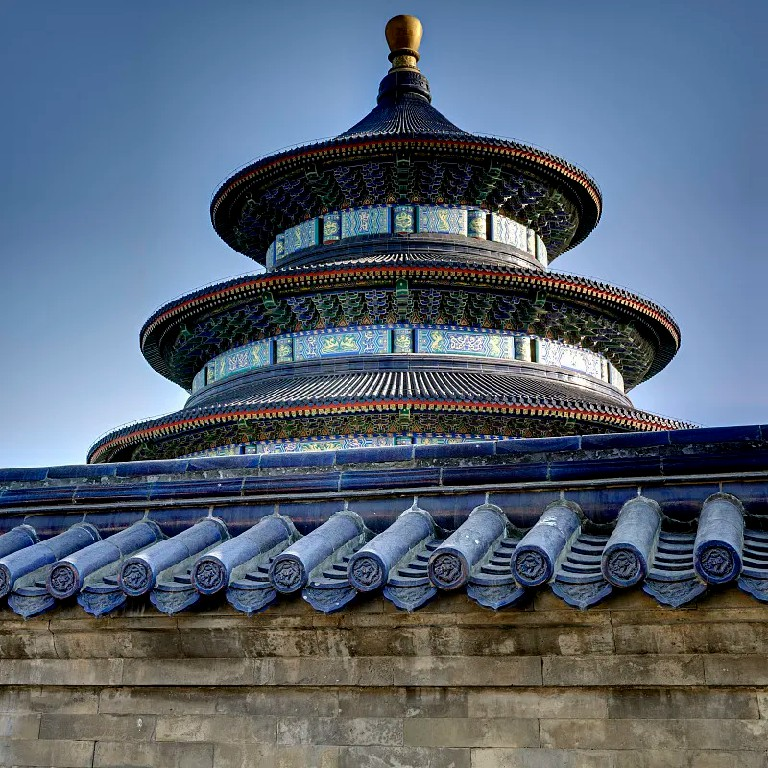Heaven: (85, 12, 702, 465)
